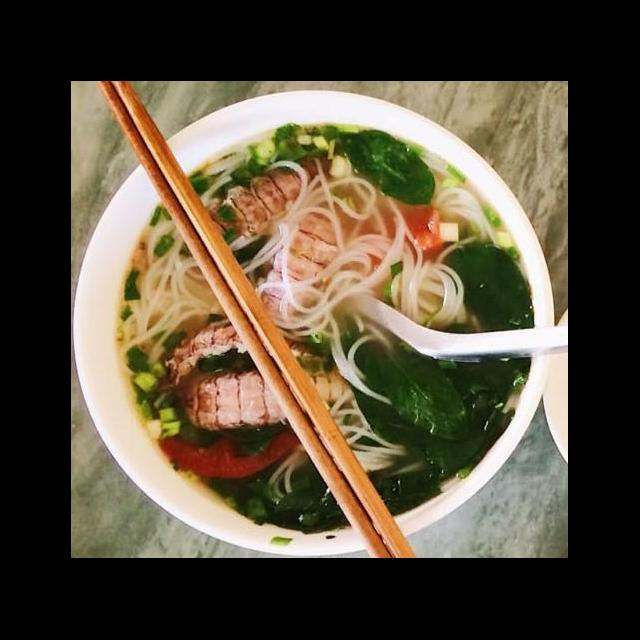bun: (245, 148, 508, 334), (112, 214, 232, 370), (324, 386, 410, 476), (262, 449, 308, 512)
tom tit: (200, 142, 354, 244), (256, 184, 364, 328), (170, 358, 368, 434), (156, 314, 334, 394)
